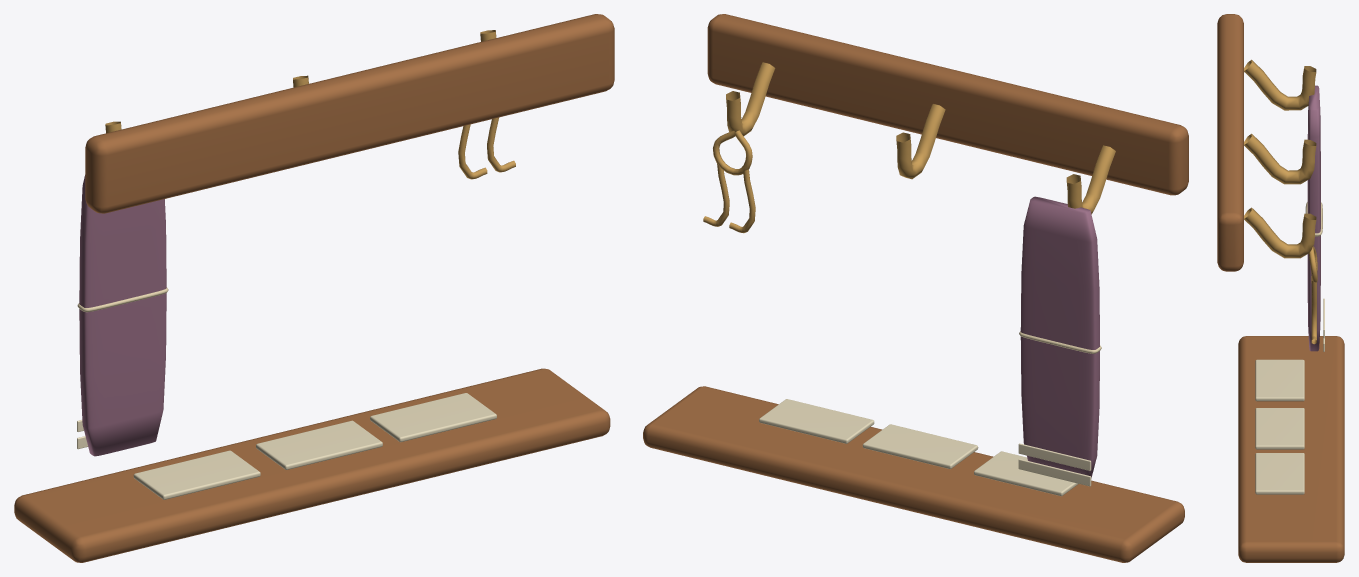
File: entry_rack.glb
3 renders of one model, left to right at view 1: azimuth 30°, elevation 25°; view 2: azimuth 150°, elevation 25°; view 3: azimuth 270°, elevation 25°, orthographic. The views are drawn at different scales.
Visible parts, largest first — view 1: House07_entry_rack; view 2: House07_entry_rack; view 3: House07_entry_rack.
Boxes of the visible parts, x1,y1,x2,y2 form: House07_entry_rack: (14,14,614,562); House07_entry_rack: (643,14,1188,562); House07_entry_rack: (1217,14,1344,562).
Size of the model in its own units: 1.32 by 1 by 0.335.
